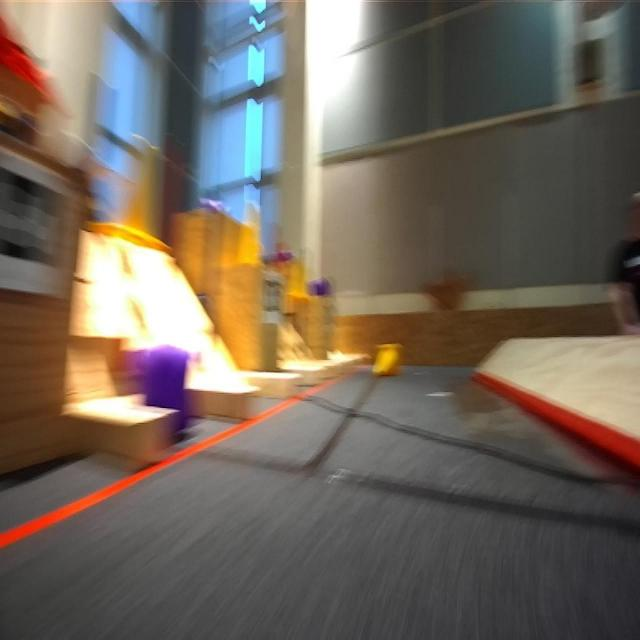frc_cone: (111, 146, 166, 248), (236, 199, 266, 268), (371, 343, 405, 381), (286, 254, 304, 302)
frc_cube: (142, 337, 192, 411), (311, 274, 331, 298), (271, 248, 291, 262)
